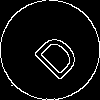D: (25, 25, 83, 83)
